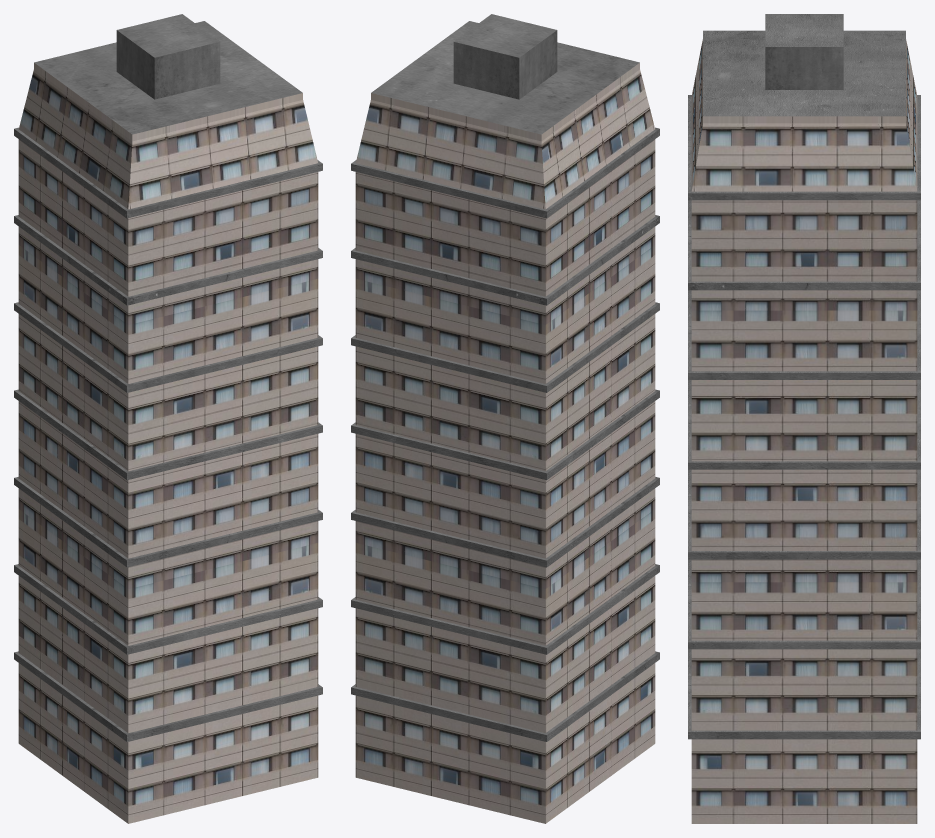
File: TOWER_10.fbx
The picture shows the model from 3 angles, left to right: view 1: azimuth 30°, elevation 25°; view 2: azimuth 150°, elevation 25°; view 3: azimuth 270°, elevation 25°; orthographic projection. The views are drawn at different scales.
Parts seen in each view (by area): view 1: TOWER_10; view 2: TOWER_10; view 3: TOWER_10.
Part boxes in pixels (x1,y1,x2,y2): TOWER_10: (14,14,322,823); TOWER_10: (351,14,659,823); TOWER_10: (688,14,920,823).
Bounding box in the file's own units: 1588 × 5615 × 1588.
